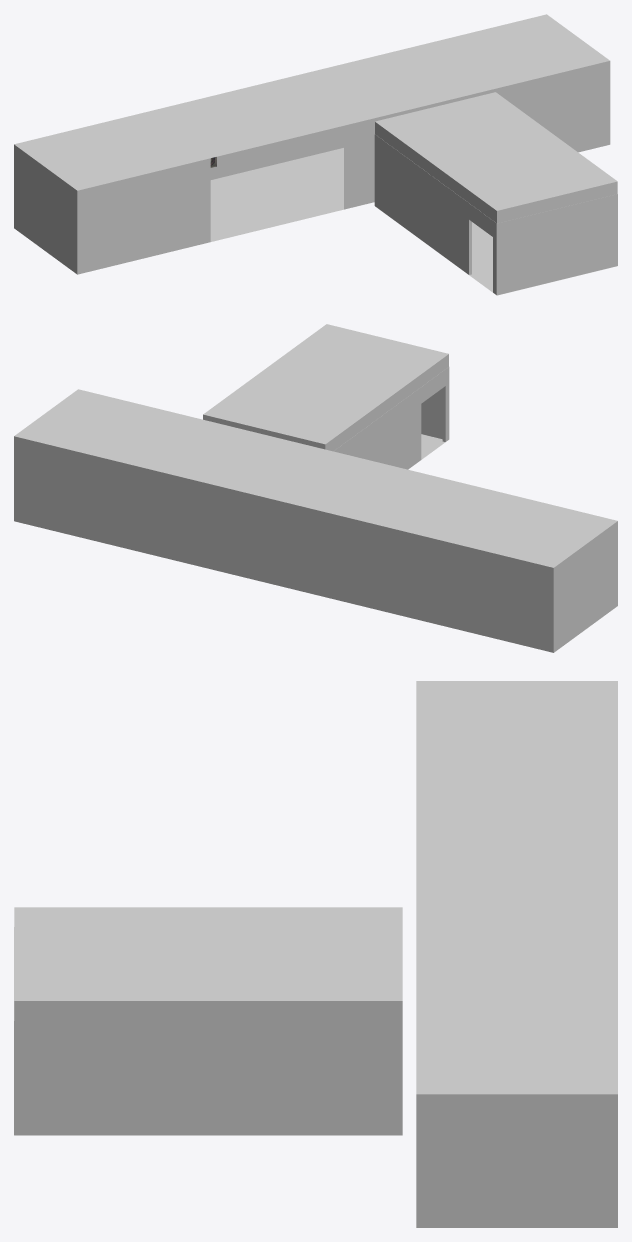
File: room0826.fbx
3 renders of one model, top to bottom at view 1: azimuth 30°, elevation 25°; view 2: azimuth 150°, elevation 25°; view 3: azimuth 270°, elevation 25°, orthographic. The views are drawn at different scales.
Visible parts, largest first — view 1: Cube, Ceiling, Front Wall, Left Wall, Floor; view 2: Cube, Ceiling, Left Wall, Front Wall; view 3: Cube, Right Wall, Ceiling.
Boxes of the visible parts, x1=… form: Cube: x1=14, y1=14, x2=610, y2=274; Ceiling: x1=375, y1=92, x2=617, y2=223; Front Wall: x1=497, y1=194, x2=617, y2=295; Left Wall: x1=374, y1=134, x2=496, y2=295; Floor: x1=382, y1=211, x2=617, y2=295; Cube: x1=14, y1=389, x2=617, y2=652; Ceiling: x1=203, y1=324, x2=448, y2=451; Left Wall: x1=333, y1=367, x2=449, y2=469; Front Wall: x1=421, y1=388, x2=442, y2=439; Cube: x1=416, y1=681, x2=617, y2=1227; Right Wall: x1=14, y1=1021, x2=402, y2=1135; Ceiling: x1=14, y1=907, x2=402, y2=1020.
Size of the model in its own units: 970 by 147 by 599.
